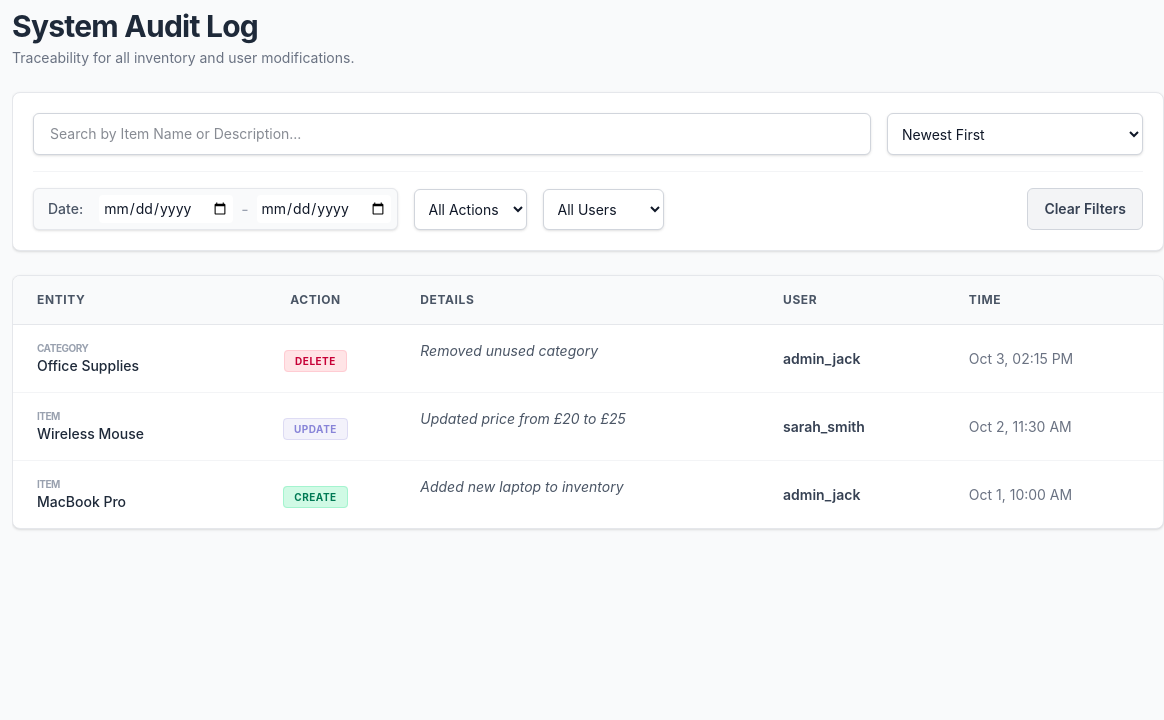
AuditLog Page › clears all filters when the Clear Filters button is clicked
Expected: the text "MacBook Pro" is shown, [37, 493, 126, 510]
Type "NonExistentItem123" into the field with placeholder "Search by Item Name or Description..." at (452,134), box [33, 113, 871, 155]
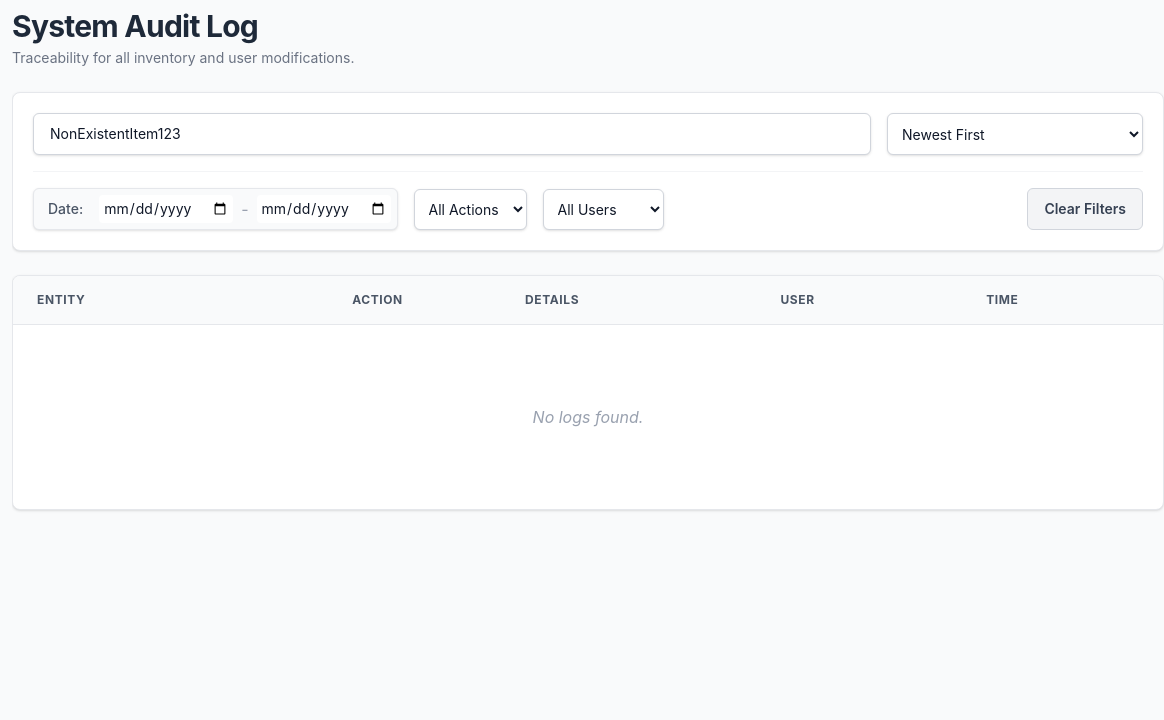
Now the text "MacBook Pro" is gone
Now the text "No logs found." is shown, box [13, 324, 1163, 509]
Click the button "Clear Filters" at (1085,209), box [1027, 188, 1143, 230]
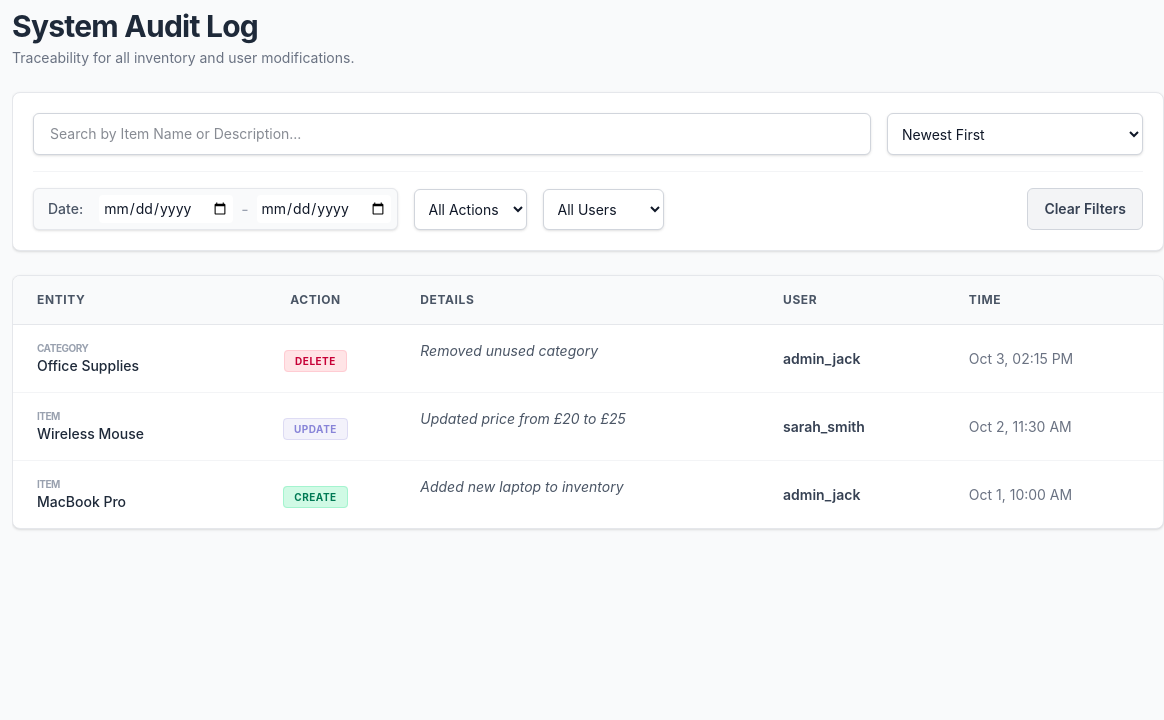
Now the text "MacBook Pro" is shown, box [37, 493, 126, 510]
Now the field with placeholder "Search by Item Name or Description..." is empty, box [33, 113, 871, 155]
